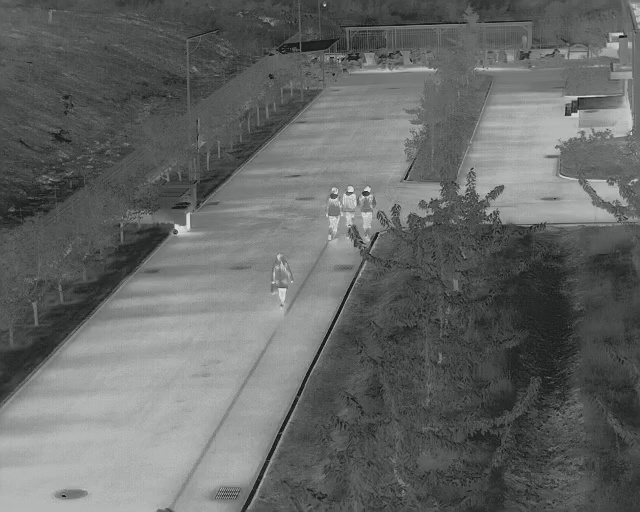person: (268, 250, 296, 309), (324, 186, 342, 241), (358, 183, 374, 237), (341, 185, 357, 234)
